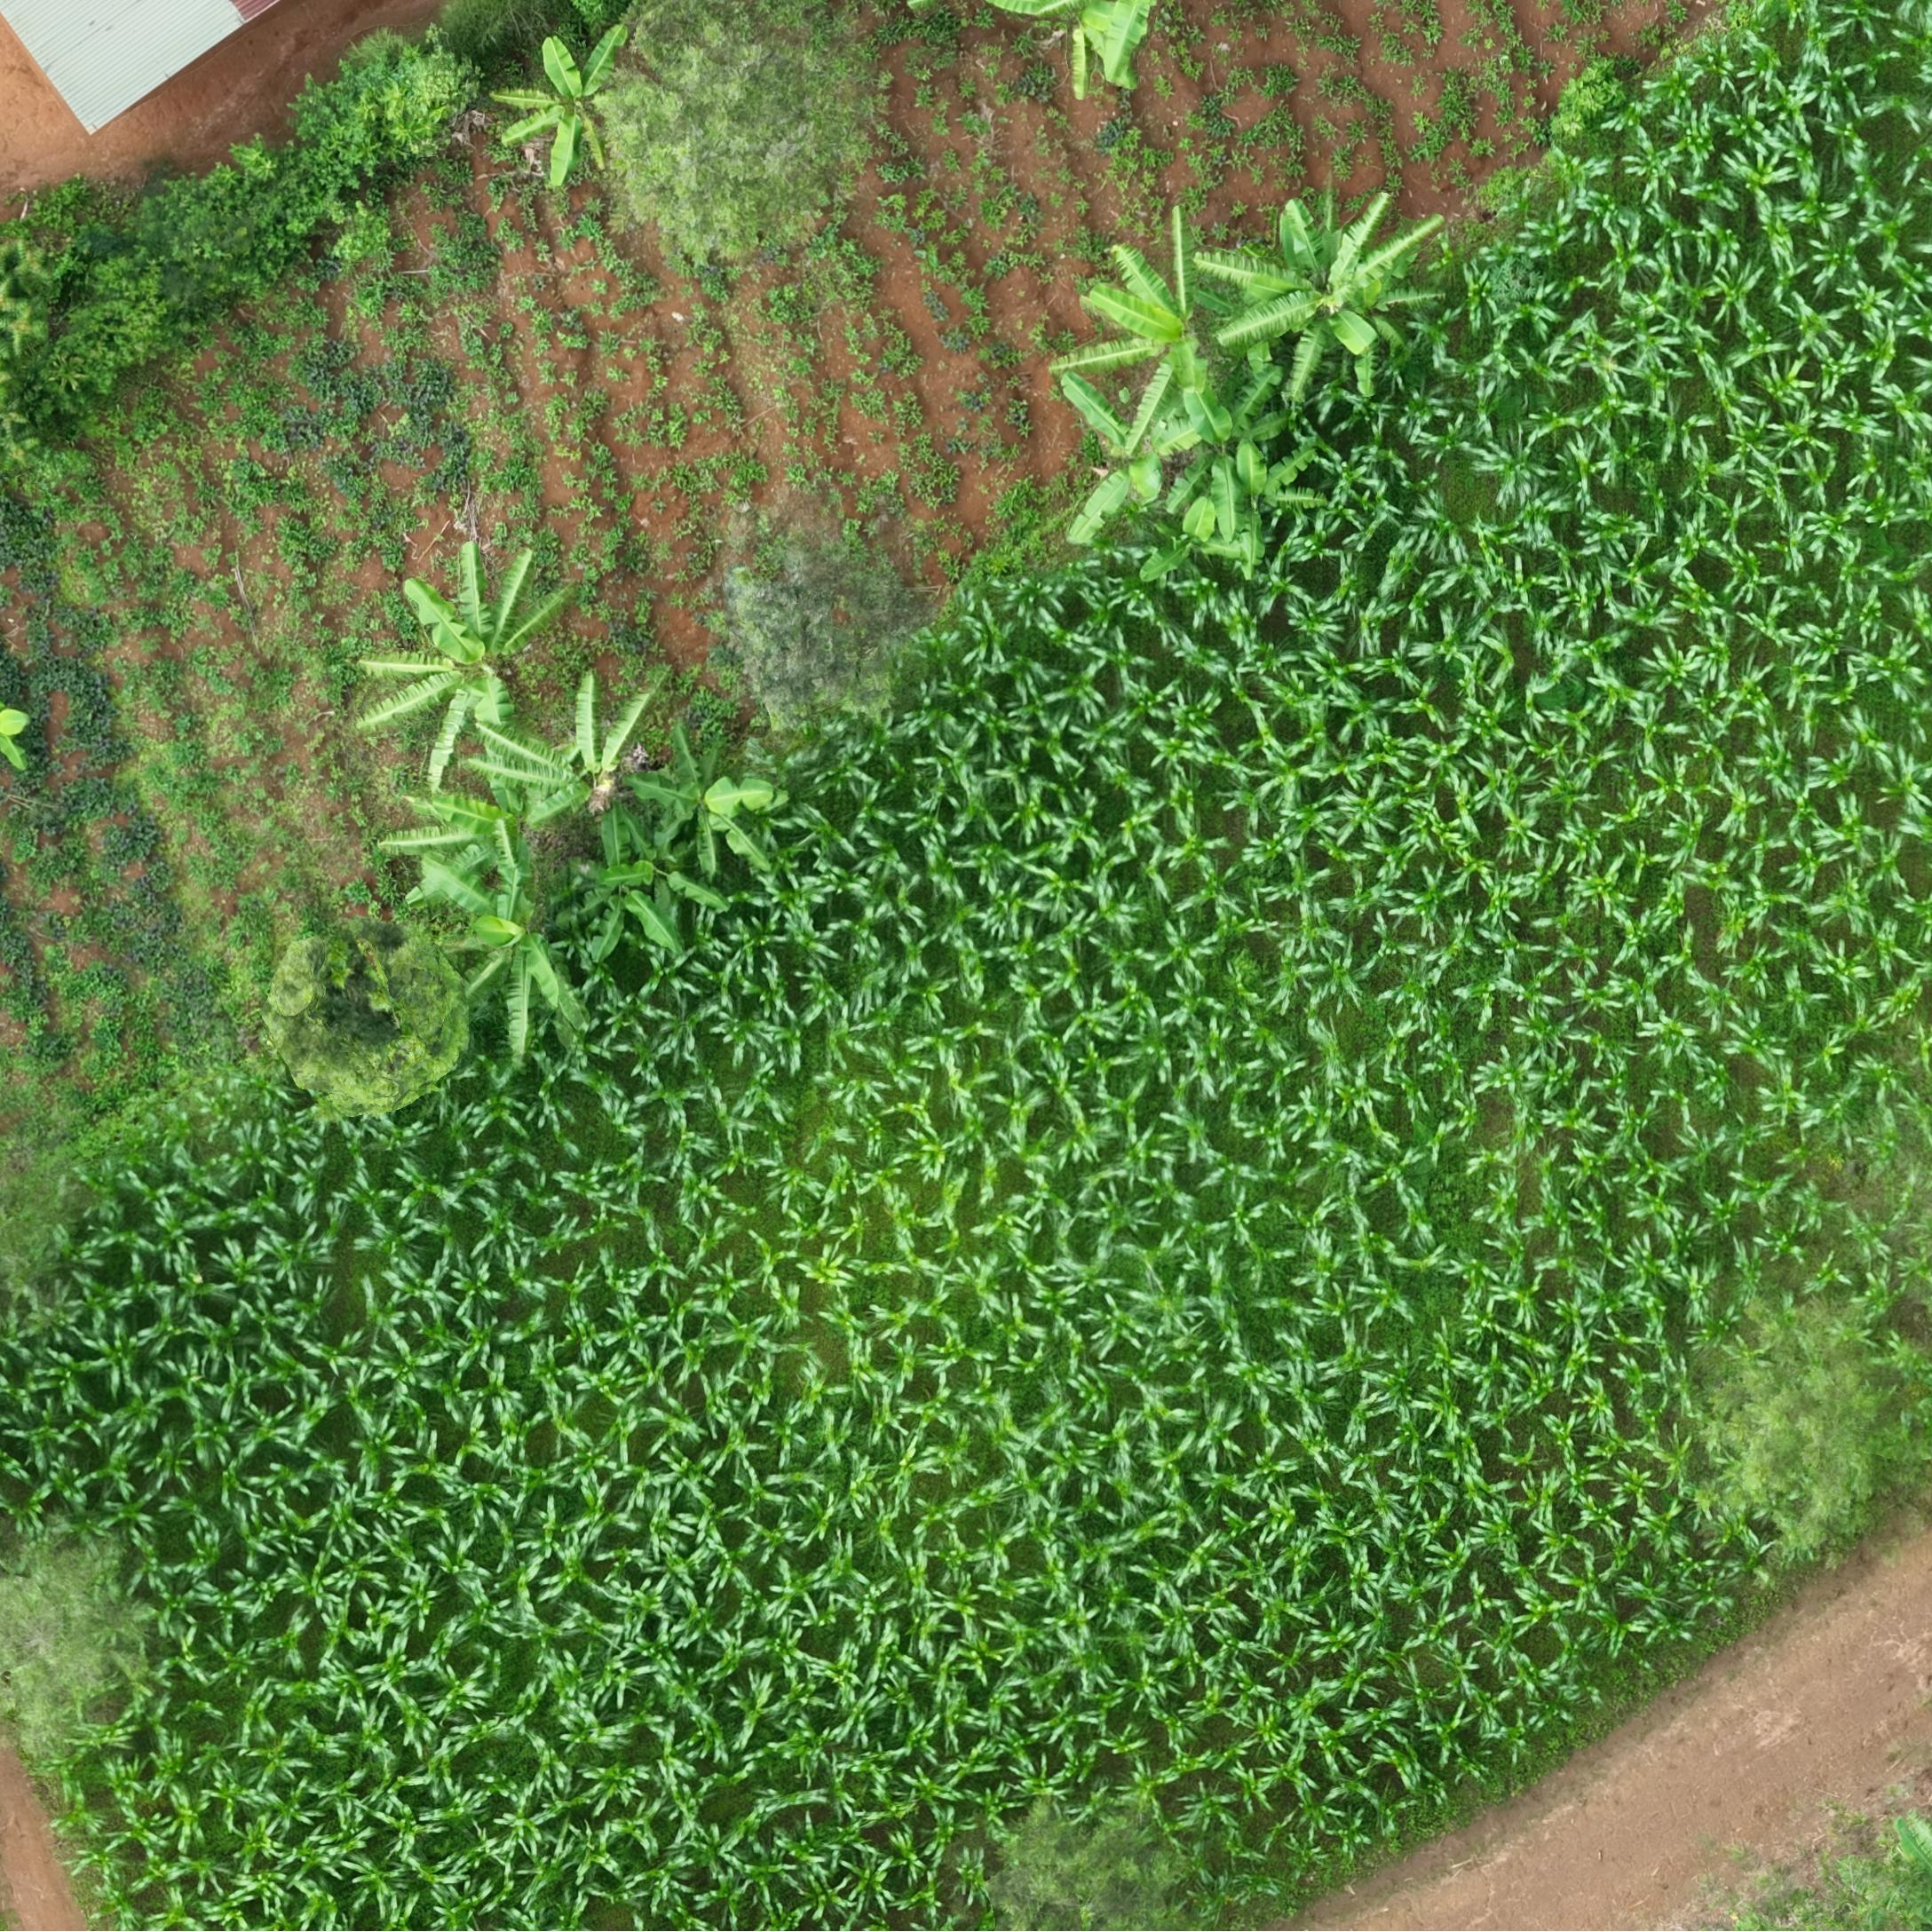Banana: (336, 591, 582, 775), (1074, 241, 1320, 423), (414, 904, 626, 1106), (1254, 216, 1507, 379), (488, 37, 702, 209), (490, 715, 717, 870), (352, 798, 587, 929), (1088, 395, 1265, 563)
